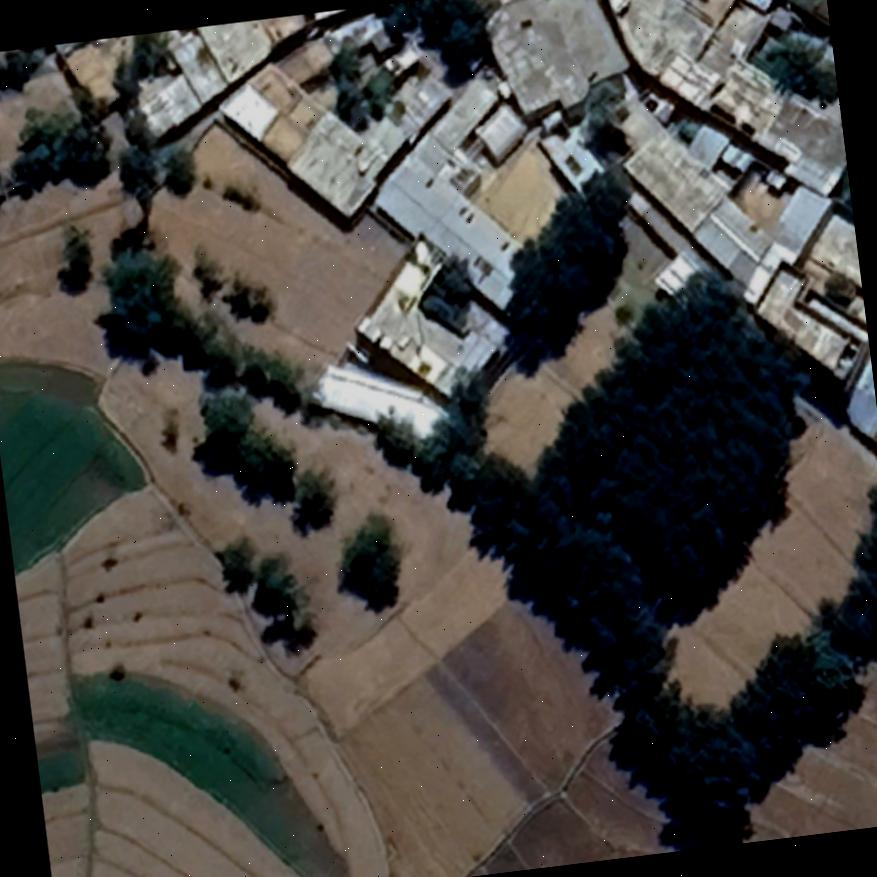Solarpanel: (558, 148, 588, 186)
